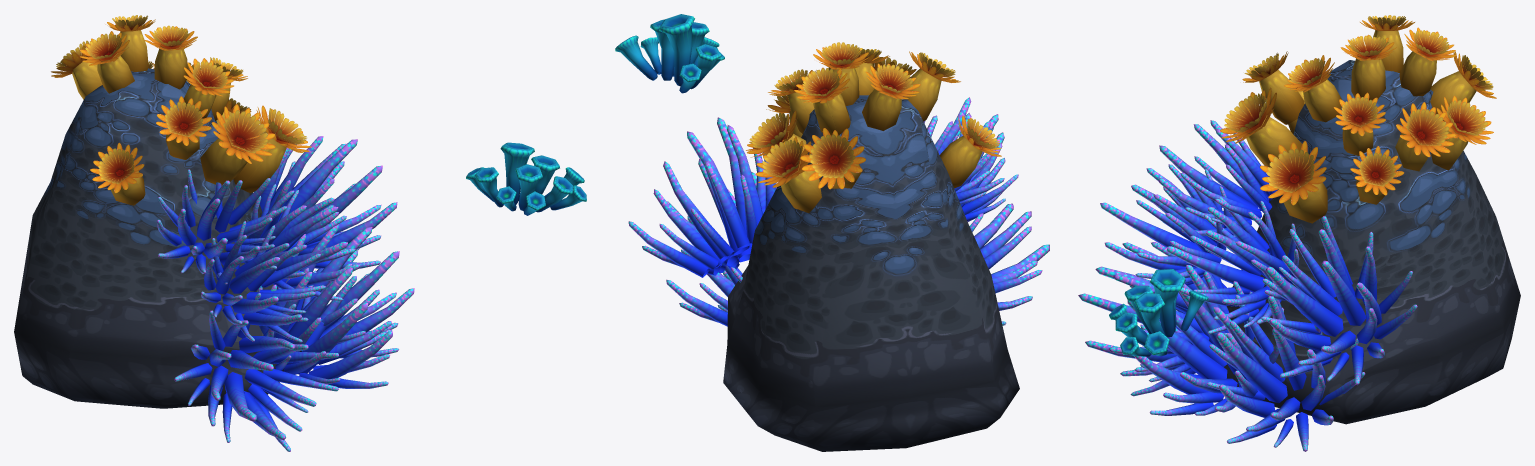
The model's file is CoralSet_04.FBX.
3 renders of one model, left to right at view 1: azimuth 30°, elevation 25°; view 2: azimuth 150°, elevation 25°; view 3: azimuth 270°, elevation 25°, orthographic. The views are drawn at different scales.
Visible parts, largest first — view 1: Box021, Line267, Line266, Line268, Line264, Line270, Line379, Line269, Line265, Line251, Line252, Line254 (+7 smaller); view 2: Box021, Line264, Line379, Line267, Line259, Line258, Line255, Line256, Line254, Line265, Line250, Line270 (+5 smaller); view 3: Box021, Line264, Line265, Line269, Line266, Line268, Line270, Line379, Line252, Line267, Line251, Line257 (+9 smaller).
Boxes of the visible parts, left/top/right/bottom form: Box021: left=14, top=68, right=301, bottom=408; Line267: left=174, top=293, right=339, bottom=451; Line266: left=257, top=264, right=392, bottom=388; Line268: left=201, top=221, right=325, bottom=342; Line264: left=254, top=136, right=397, bottom=269; Line270: left=156, top=169, right=286, bottom=284; Line379: left=466, top=142, right=586, bottom=215; Line269: left=248, top=184, right=359, bottom=300; Line265: left=292, top=224, right=414, bottom=358; Line251: left=200, top=104, right=275, bottom=185; Line252: left=233, top=105, right=311, bottom=193; Line254: left=90, top=142, right=145, bottom=205; Box021: left=723, top=95, right=1019, bottom=451; Line264: left=628, top=117, right=776, bottom=277; Line379: left=615, top=14, right=724, bottom=93; Line267: left=967, top=203, right=1049, bottom=325; Line259: left=755, top=136, right=821, bottom=212; Line258: left=800, top=128, right=865, bottom=189; Line255: left=862, top=63, right=920, bottom=130; Line256: left=794, top=67, right=850, bottom=135; Line254: left=939, top=115, right=1001, bottom=188; Line265: left=666, top=172, right=756, bottom=326; Line250: left=905, top=51, right=960, bottom=121; Line270: left=924, top=97, right=1004, bottom=204; Box021: left=1224, top=60, right=1520, bottom=424; Line264: left=1261, top=216, right=1417, bottom=385; Line265: left=1207, top=282, right=1365, bottom=451; Line269: left=1166, top=197, right=1299, bottom=334; Line266: left=1127, top=265, right=1283, bottom=415; Line268: left=1100, top=164, right=1230, bottom=293; Line270: left=1158, top=120, right=1277, bottom=235; Line379: left=1109, top=269, right=1208, bottom=356; Line252: left=1260, top=141, right=1327, bottom=223; Line267: left=1078, top=242, right=1226, bottom=396; Line251: left=1220, top=87, right=1302, bottom=167; Line257: left=1395, top=102, right=1456, bottom=171.
Size of the model in its own units: 314 by 223 by 252.
